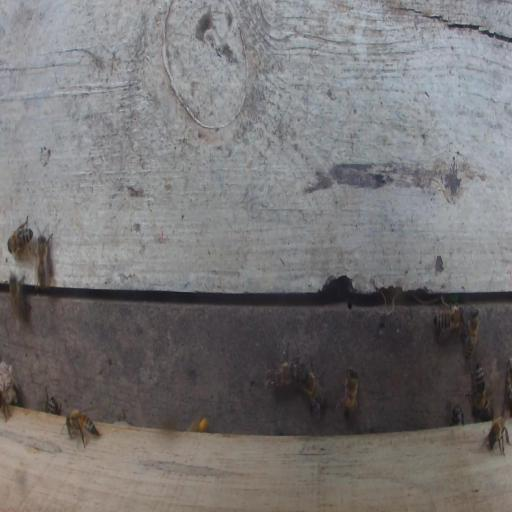nonpollenbee: (298, 363, 327, 421), (65, 407, 101, 450), (264, 346, 298, 391), (467, 361, 492, 419), (34, 230, 54, 293), (7, 216, 34, 261), (8, 272, 31, 323), (484, 414, 510, 456), (433, 302, 463, 338), (461, 308, 480, 361), (342, 366, 358, 420), (45, 391, 61, 414), (450, 403, 465, 425)
